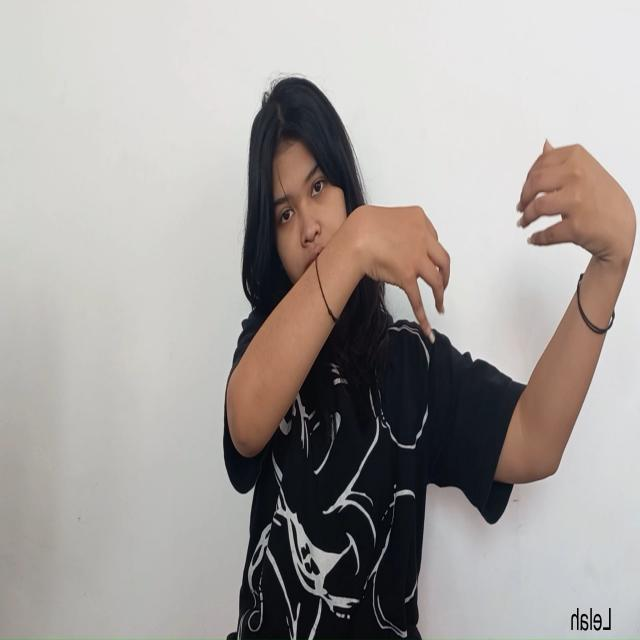Lelah -BISINDO-: (351, 134, 637, 346)
